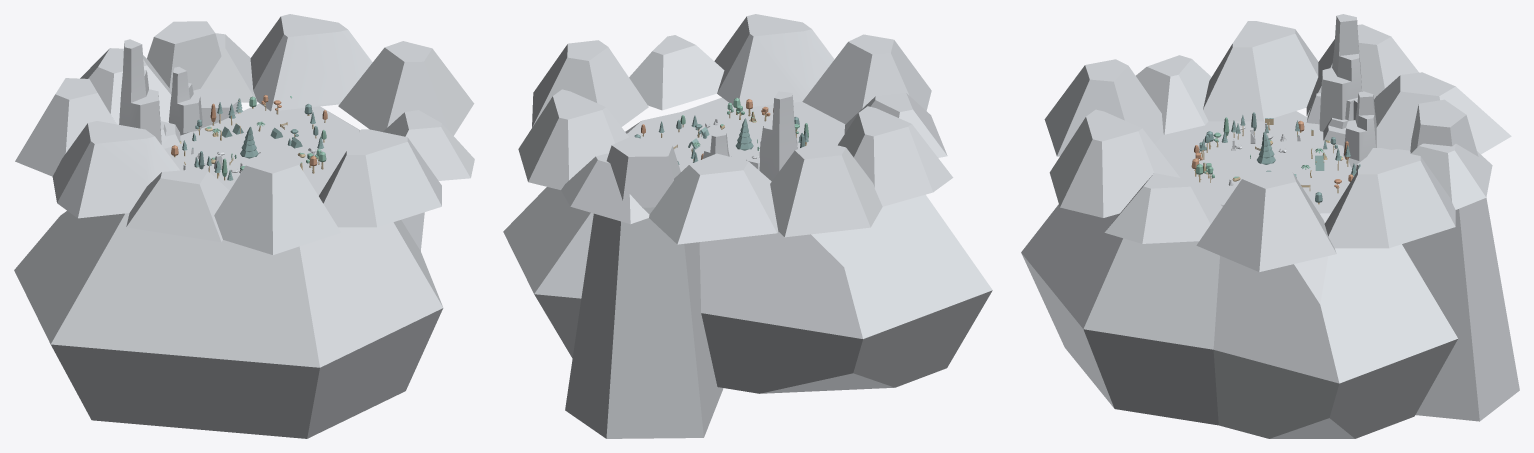
3 views of the same model, side by side, from view 1: azimuth 30°, elevation 25°; view 2: azimuth 150°, elevation 25°; view 3: azimuth 270°, elevation 25° (orthographic). The views are drawn at different scales.
Visible parts, largest first — view 1: Mesh1_Group1_Model (×4), Mesh1_Tall_Rock_2_Model; view 2: Mesh1_Group1_Model (×4), Mesh1_Tall_Rock_2_Model; view 3: Mesh1_Group1_Model (×4), Mesh1_Tall_Rock_2_Model.
Boxes of the visible parts, x1,y1,x2,y2 form: Mesh1_Group1_Model (×4): (14, 14, 474, 438); Mesh1_Tall_Rock_2_Model: (168, 67, 202, 133); Mesh1_Group1_Model (×4): (503, 14, 992, 438); Mesh1_Tall_Rock_2_Model: (702, 131, 731, 158); Mesh1_Group1_Model (×4): (1021, 14, 1519, 438); Mesh1_Tall_Rock_2_Model: (1343, 91, 1376, 160).
Bounding box in the file's own units: 181 × 122 × 170.
